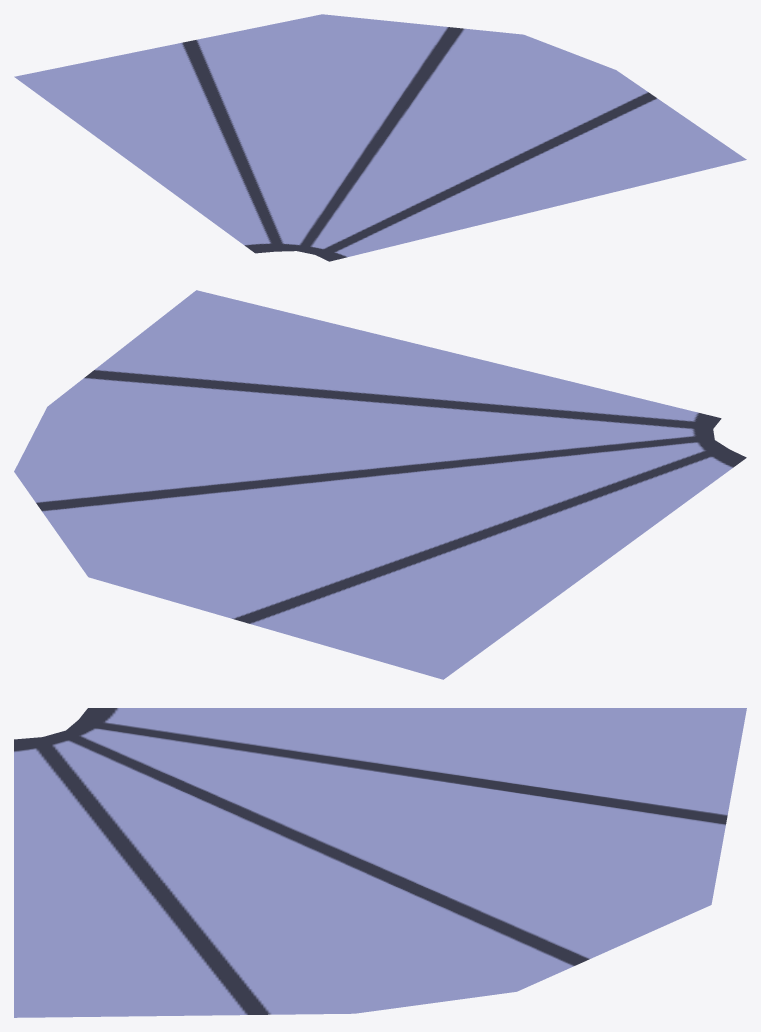
Rendered from convb_2 (1).fbx.
3 views of the same model, one above another, from view 1: azimuth 30°, elevation 25°; view 2: azimuth 150°, elevation 25°; view 3: azimuth 270°, elevation 25° (orthographic). The views are drawn at different scales.
Visible parts, largest first — view 1: CORNER.001; view 2: CORNER.001; view 3: CORNER.001.
Boxes of the visible parts, x1,y1,x2,y2 form: CORNER.001: (14,14,746,261); CORNER.001: (14,290,746,679); CORNER.001: (14,708,746,1017).
Bounding box in the file's own units: 90.81 × 1.48e-05 × 90.82.
